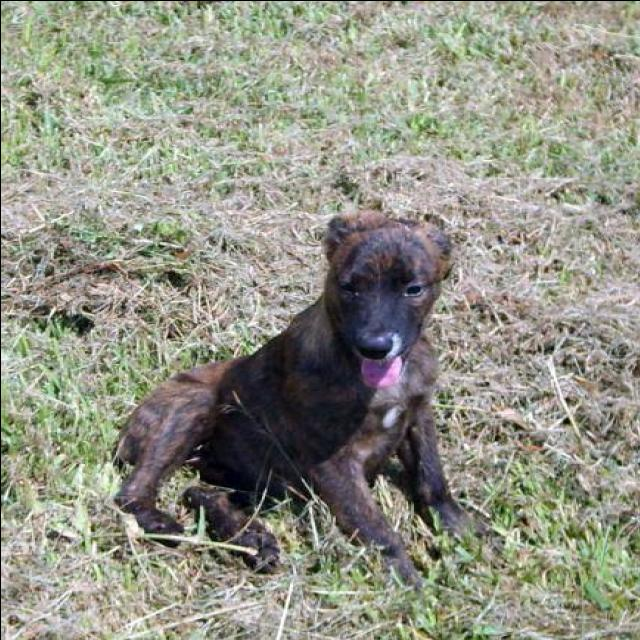dog: (90, 177, 492, 594)
